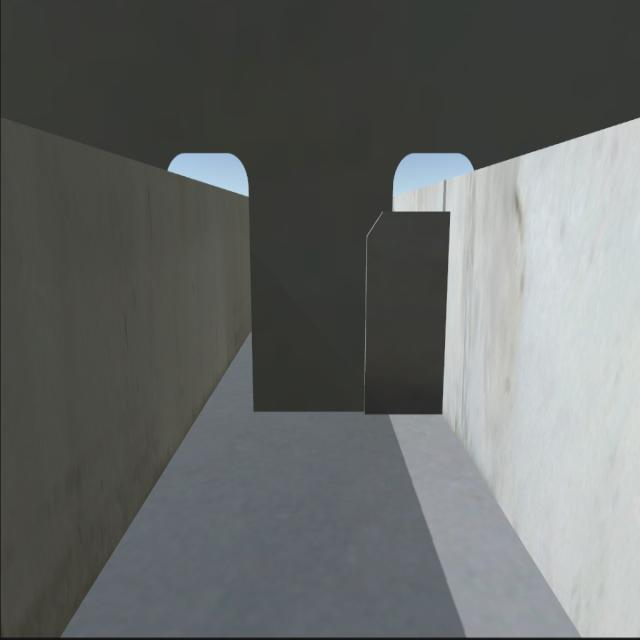fillet_yong_jeop_jang: (250, 401, 443, 424)
longi_yong_jeop_jang: (437, 208, 457, 420)
plate_CP03: (363, 208, 449, 411)
